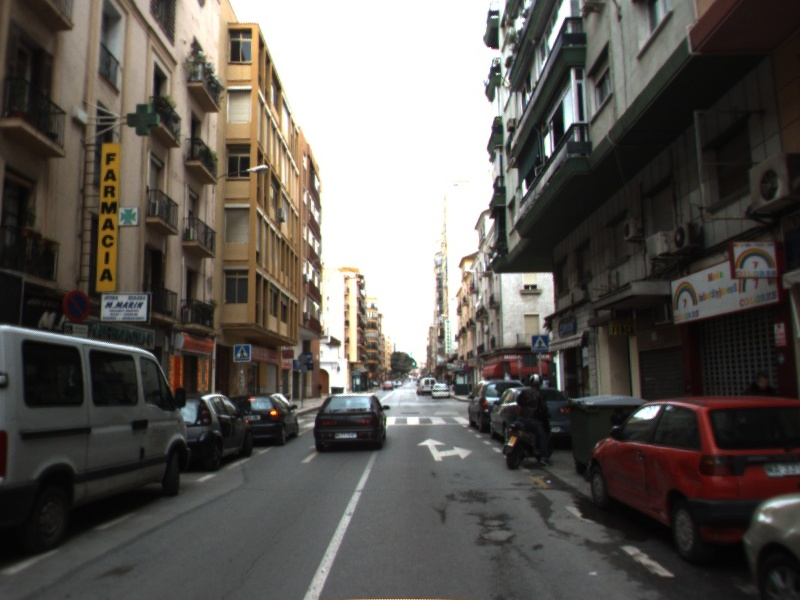STRAIGHT_RIGHT: (416, 437, 474, 462)
